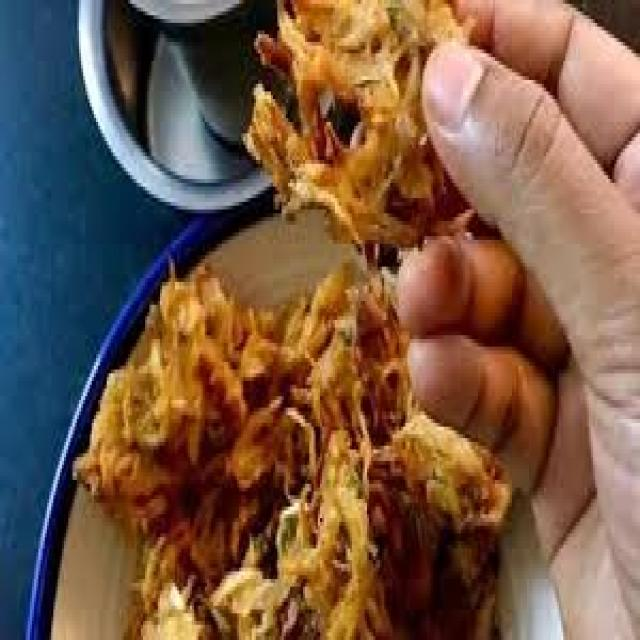BAJI: (75, 263, 510, 636), (243, 0, 467, 244), (247, 0, 467, 244)
